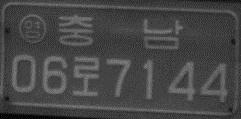0: (9, 53, 37, 95)
1: (136, 57, 162, 100)
4: (167, 60, 196, 101), (199, 62, 228, 102)
6: (42, 54, 67, 95)
7: (105, 57, 130, 99)
로: (70, 55, 100, 96)
영: (17, 13, 46, 44)
충남_D: (56, 13, 183, 50)
